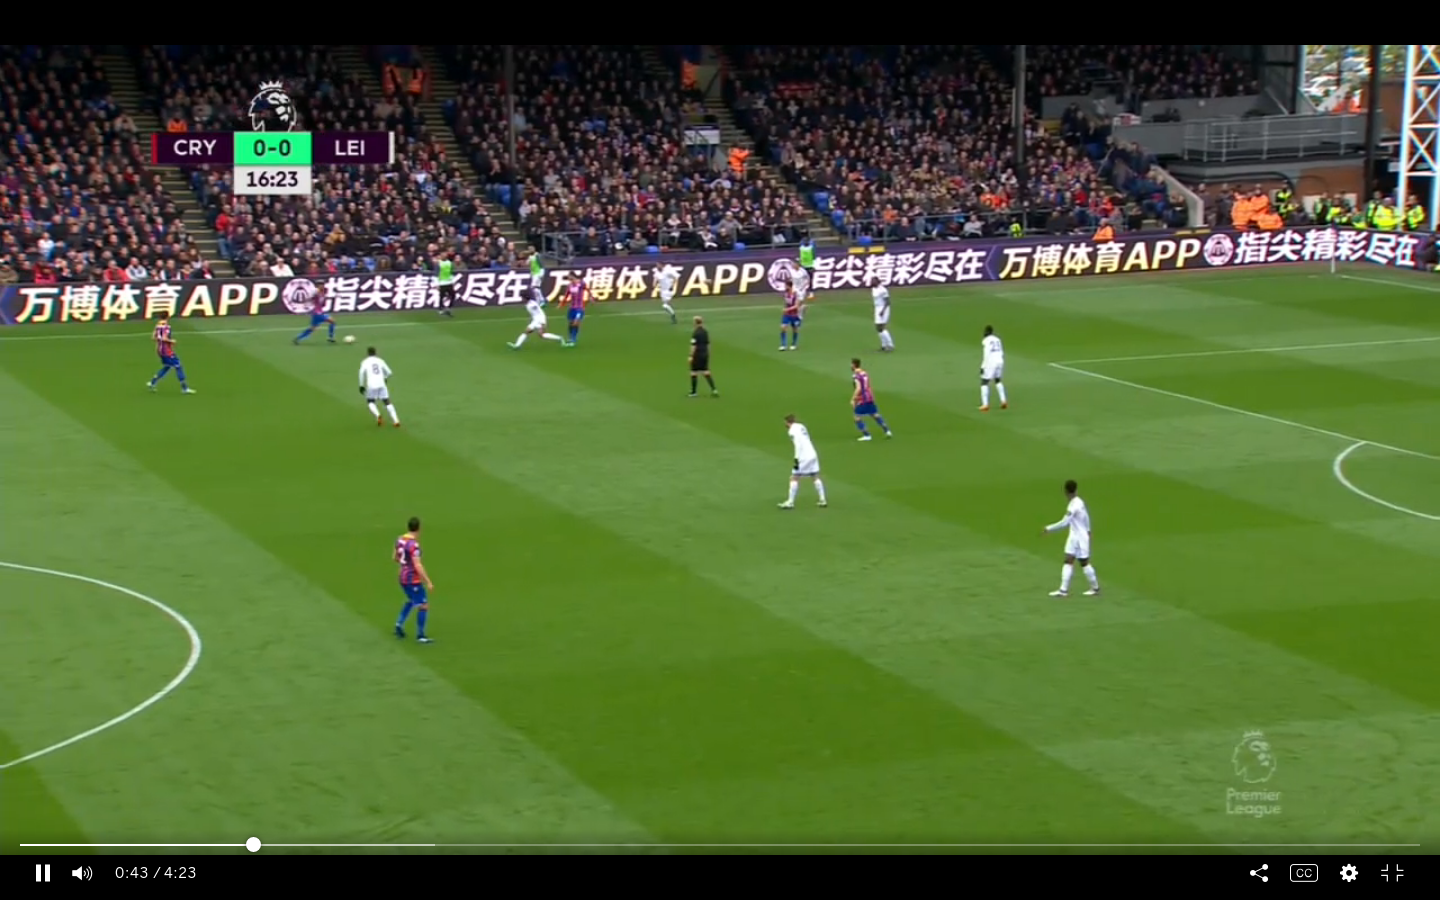referee: (684, 312, 721, 409)
soccer player: (1041, 480, 1104, 603), (392, 506, 438, 652), (776, 412, 830, 511), (139, 306, 193, 399), (844, 357, 895, 445), (355, 343, 404, 432), (973, 323, 1016, 417), (505, 288, 559, 352), (296, 274, 339, 352), (559, 272, 599, 348), (864, 274, 902, 354), (653, 260, 681, 326), (775, 283, 804, 345)
soccerball: (341, 331, 361, 351)
